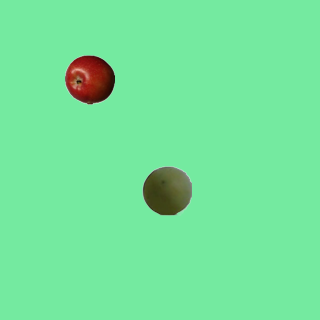Apple Braeburn: (64, 54, 114, 104)
Grape White 4: (141, 165, 191, 215)
